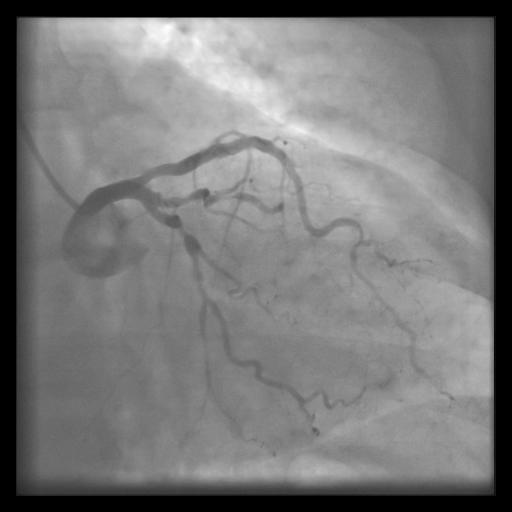Stenosis: (172, 215, 193, 247)
